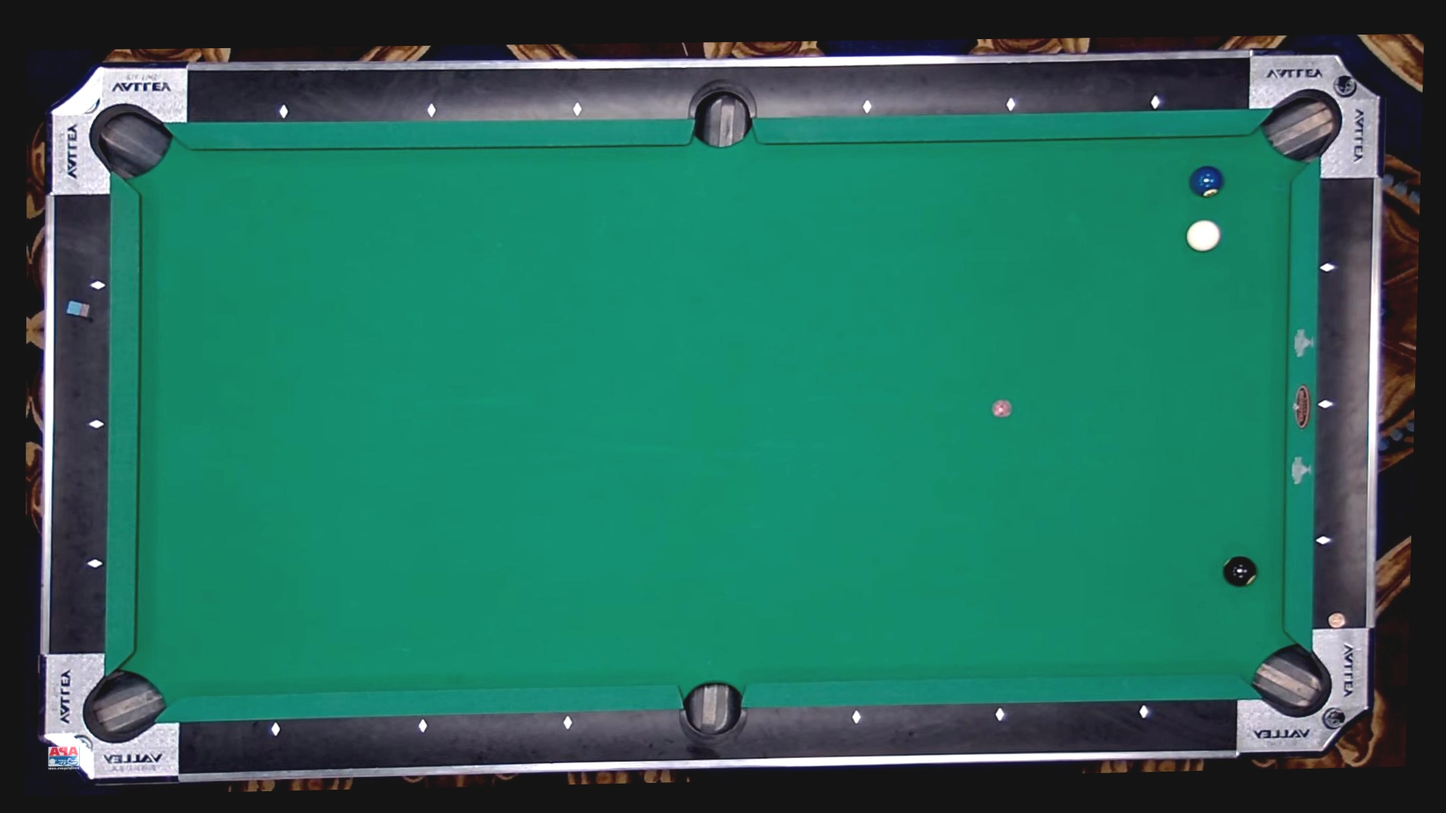Black: (1321, 263, 1332, 274), (89, 558, 100, 569), (1319, 535, 1329, 546), (1149, 97, 1160, 107), (1006, 99, 1016, 110), (572, 104, 583, 114), (427, 105, 437, 116), (279, 106, 289, 117), (92, 281, 103, 291), (91, 419, 102, 429), (271, 725, 282, 735), (851, 713, 862, 723), (1320, 398, 1330, 408), (862, 102, 872, 112), (419, 720, 429, 730), (564, 717, 574, 727), (995, 710, 1005, 720), (1139, 707, 1149, 717)
Cue: (1188, 164, 1225, 199)
Solid: (1222, 554, 1259, 588)
Stripe: (1186, 218, 1221, 254)
